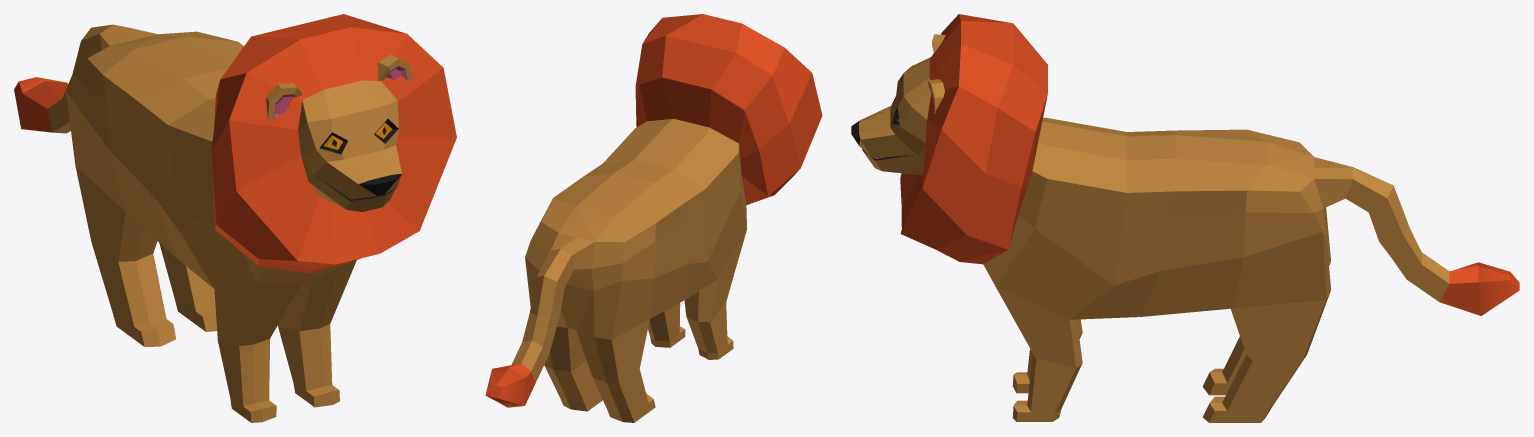
File: Lion_01.fbx
The picture shows the model from 3 angles, left to right: view 1: azimuth 30°, elevation 25°; view 2: azimuth 150°, elevation 25°; view 3: azimuth 270°, elevation 25°; orthographic projection. The views are drawn at different scales.
Parts seen in each view (by area): view 1: Lion_01; view 2: Lion_01; view 3: Lion_01.
Part boxes in pixels (x1,y1,x2,y2): Lion_01: [14, 14, 456, 422]; Lion_01: [485, 14, 822, 422]; Lion_01: [851, 14, 1519, 422].
Size of the model in its own units: 7.34 by 12.74 by 20.87.
